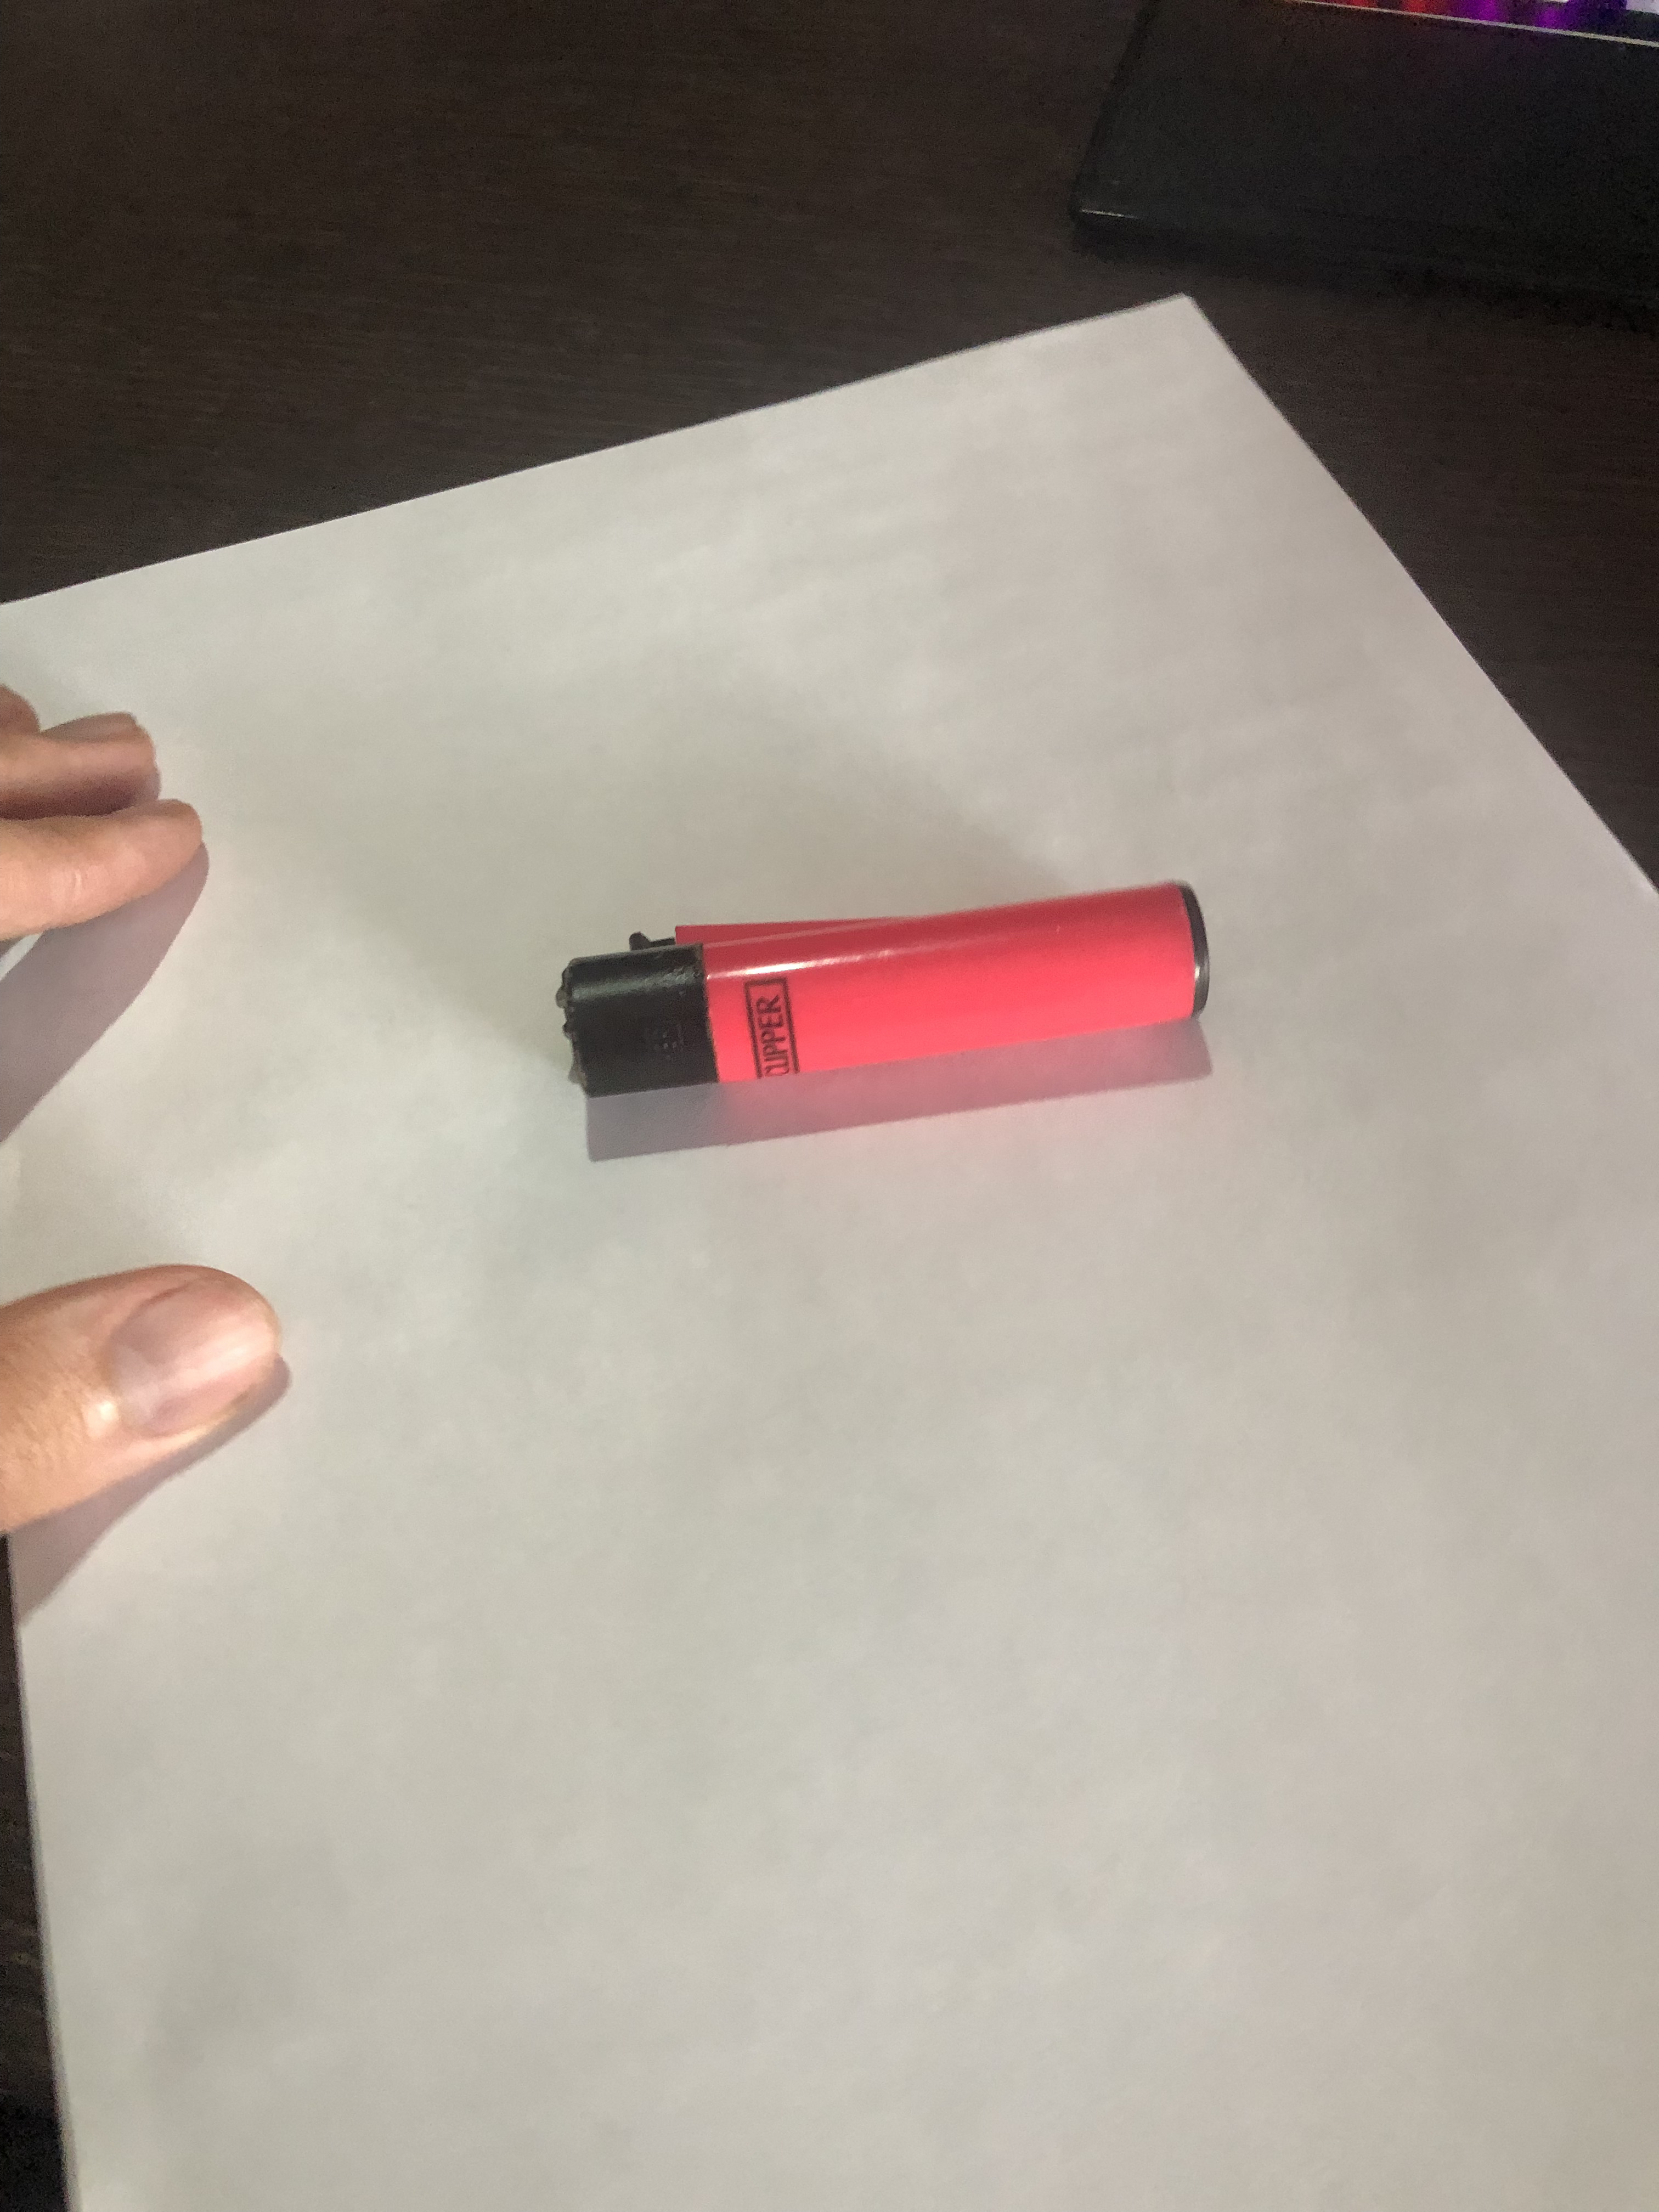Mechero: (556, 876, 1211, 1094)
